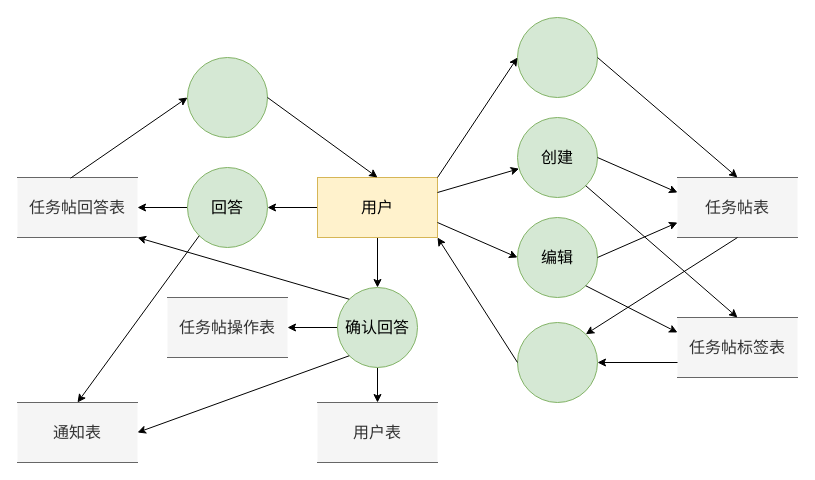
Image size: 815x480. Some labels were removed from this diagram. The centre of each missing label's shape, as x and y in pixels:
删除: (557,57)
获取: (557,362)
获取回答: (227,97)
